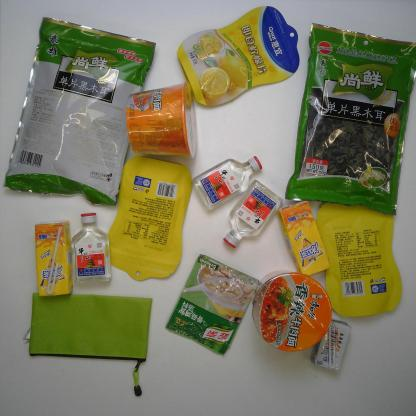Alcohol: (223, 180, 283, 248), (190, 156, 262, 212), (70, 212, 111, 285)
Dried Food: (1, 16, 157, 207), (284, 22, 416, 215)
Dried Fruit: (176, 5, 300, 106), (104, 155, 193, 282), (316, 203, 402, 317)
Drink: (275, 200, 330, 276), (34, 220, 73, 296)
Instant Noodles: (251, 272, 333, 352), (125, 80, 198, 159)
Milk: (310, 318, 351, 372)
Seasoner: (164, 253, 260, 356)
Stationery: (29, 292, 152, 363)
